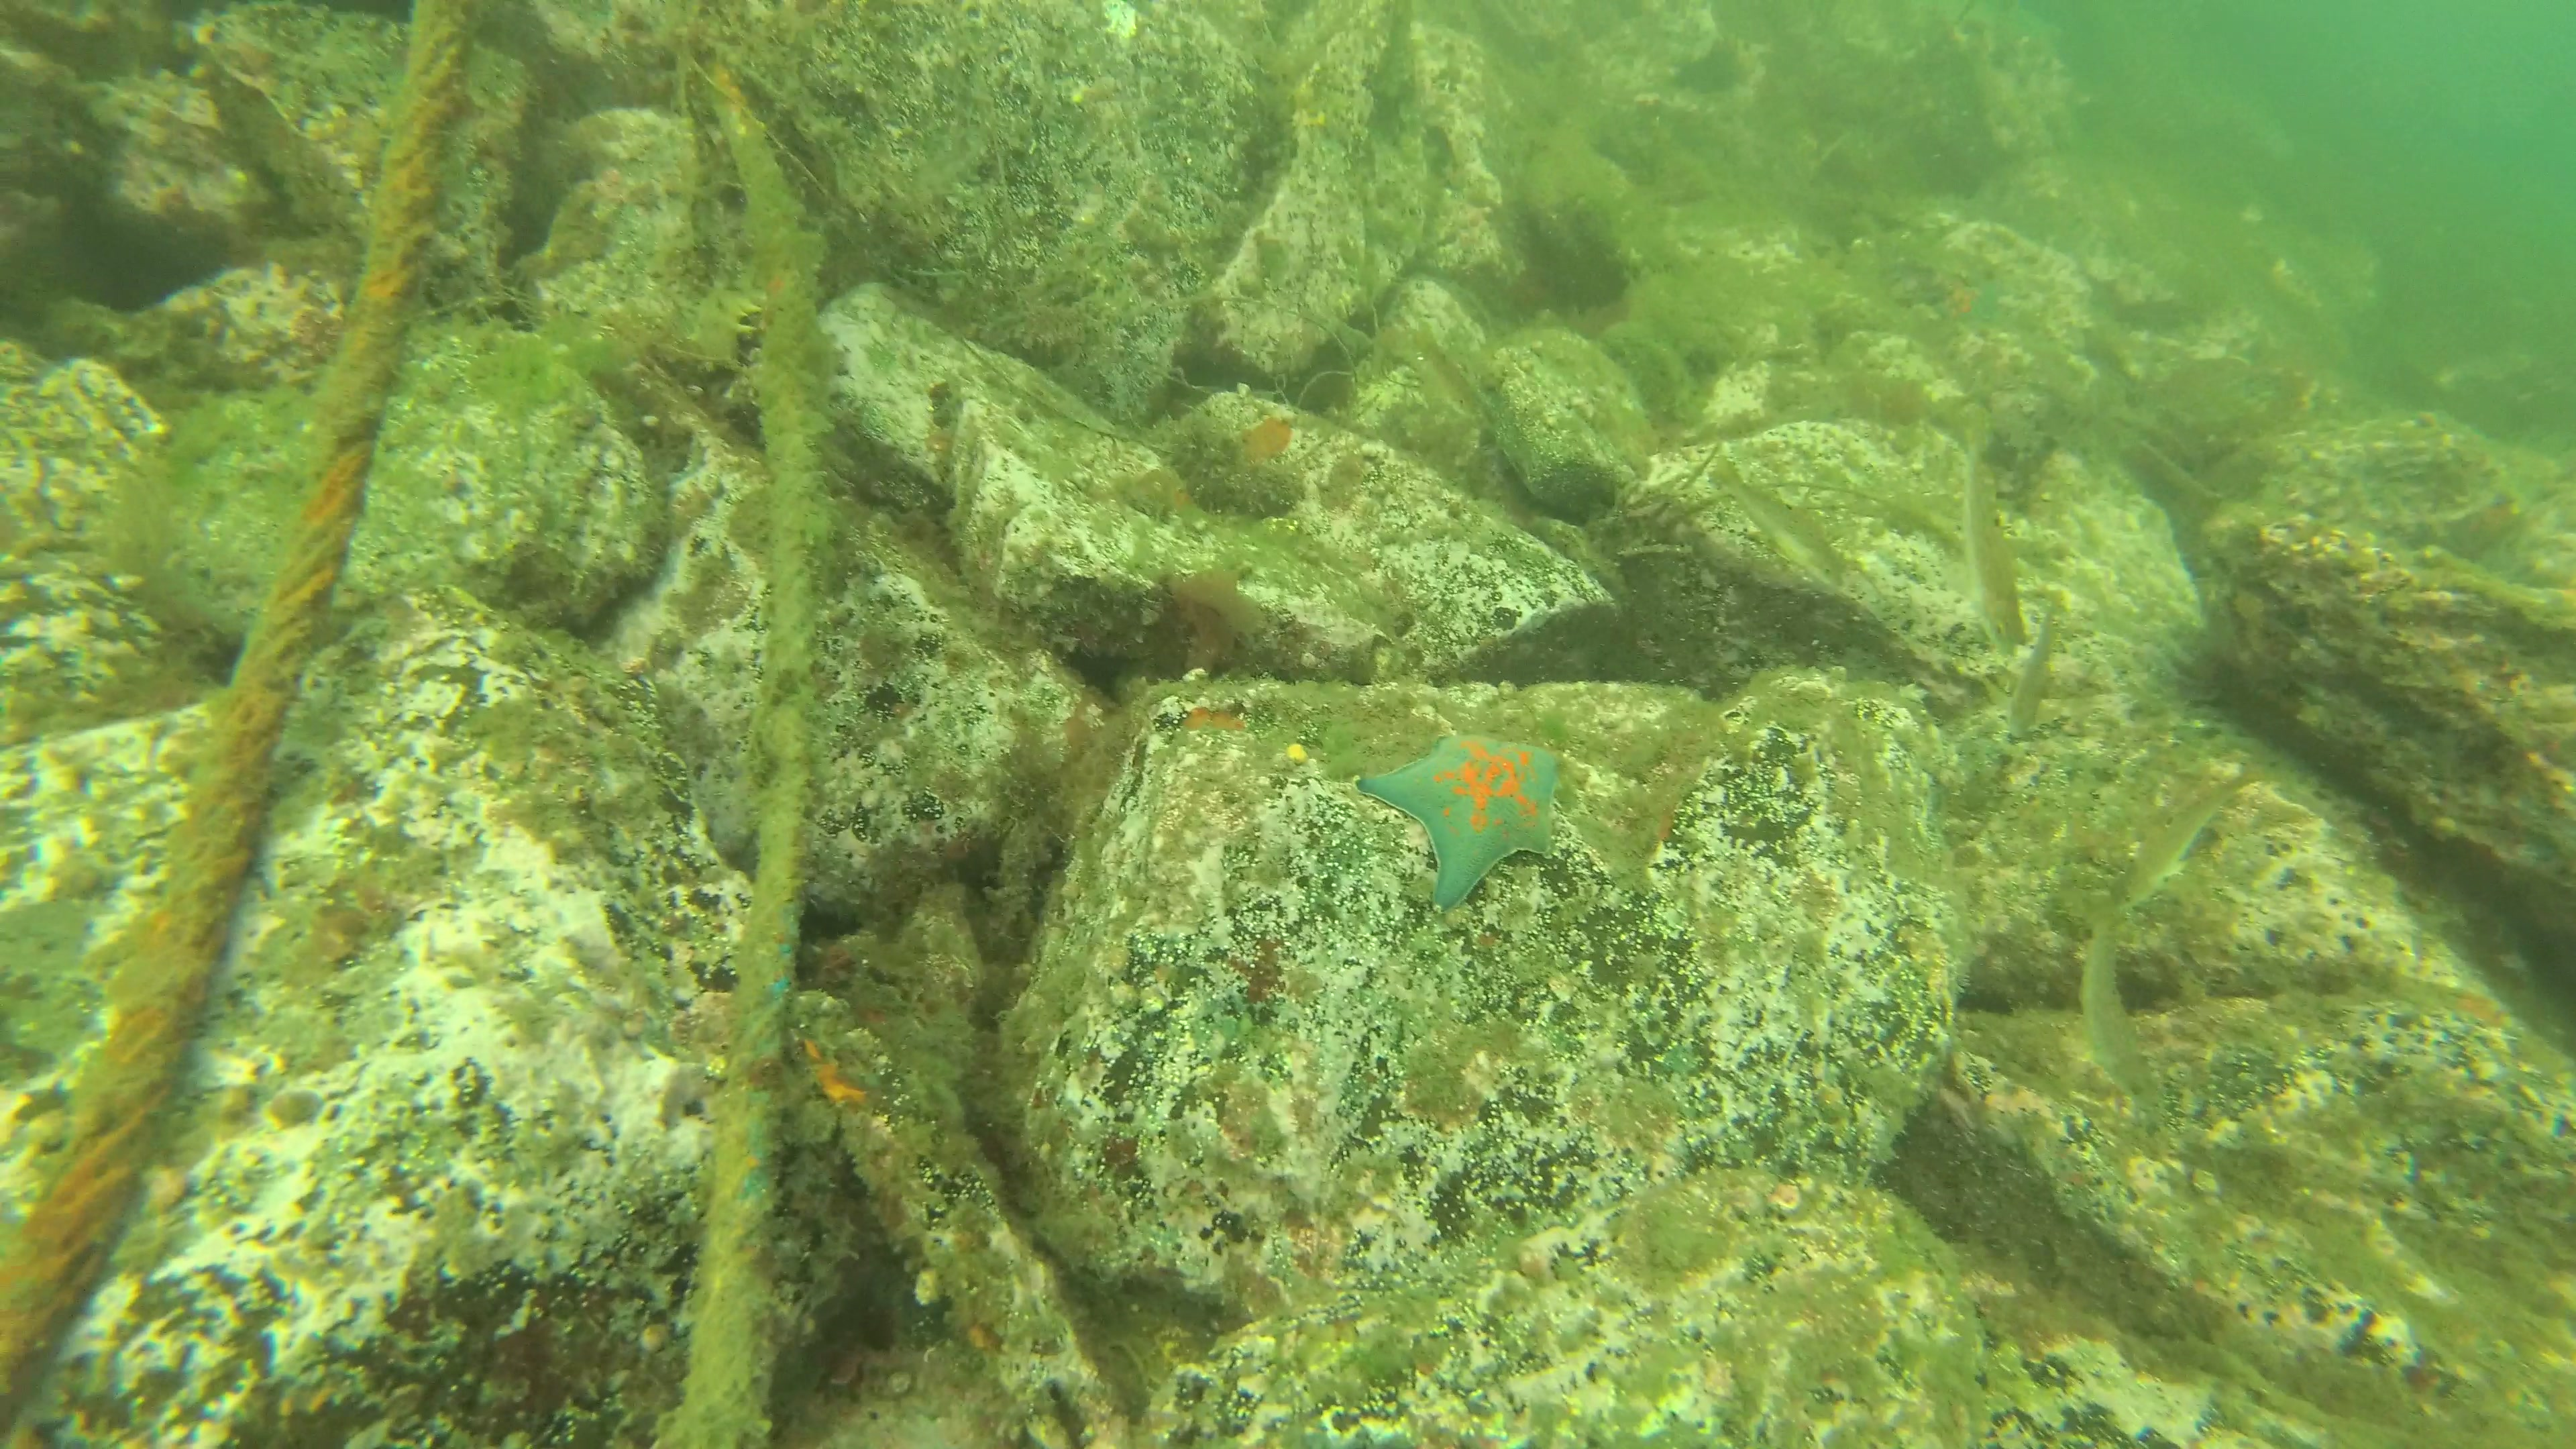starfish: (1357, 725, 1569, 908)
